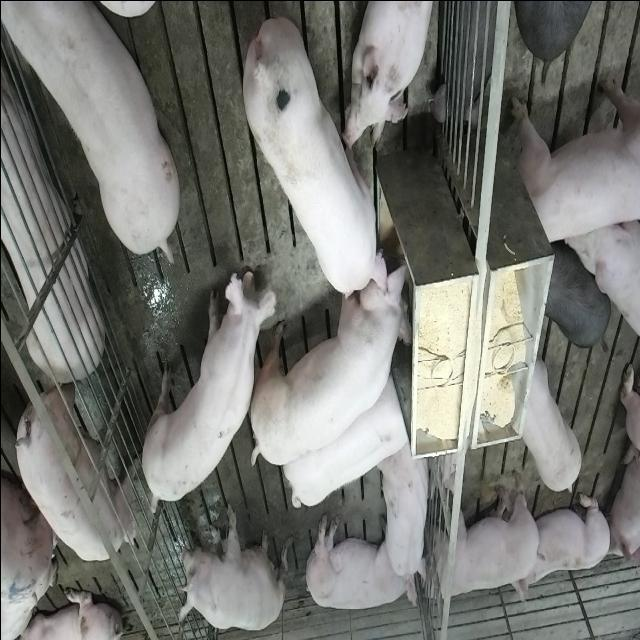Feeding: (240, 16, 392, 302), (252, 245, 418, 467)
Lateral_lying: (302, 512, 418, 612)
Sitting: (176, 502, 286, 632)
Standing: (0, 0, 176, 260), (138, 264, 272, 518), (7, 374, 134, 562), (510, 70, 638, 248), (281, 376, 410, 512), (422, 470, 540, 610), (514, 353, 583, 497), (543, 236, 611, 346)
Sternal_lying: (0, 34, 101, 381), (346, 0, 436, 149), (515, 485, 612, 607), (378, 437, 432, 593)
